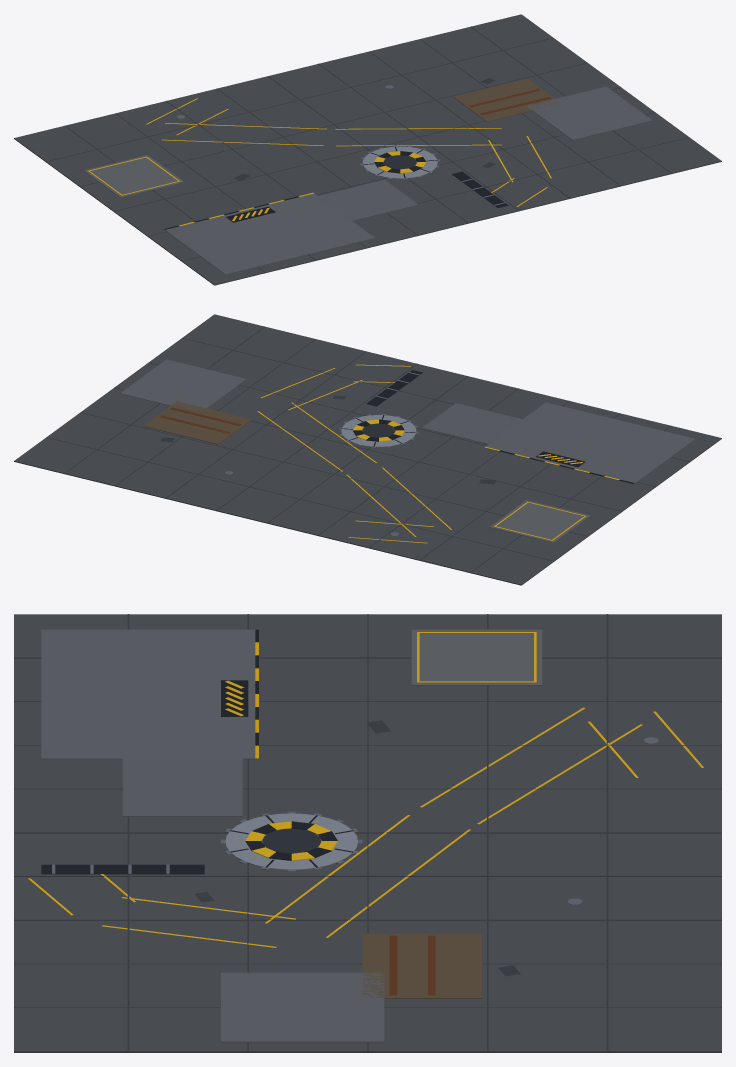
Rendered from Decor_RobotFactory_Floor.fbx.
3 views of the same model, one above another, from view 1: azimuth 30°, elevation 25°; view 2: azimuth 150°, elevation 25°; view 3: azimuth 270°, elevation 25° (orthographic). The views are drawn at different scales.
Parts seen in each view (by area): view 1: Floor_Body; view 2: Floor_Body; view 3: Floor_Body.
Part boxes in pixels (x1=…): Floor_Body: x1=14, y1=14, x2=721, y2=285; Floor_Body: x1=14, y1=314, x2=721, y2=585; Floor_Body: x1=14, y1=614, x2=721, y2=1052.
Bounding box in the file's own units: 190 × 0.54 × 130.
